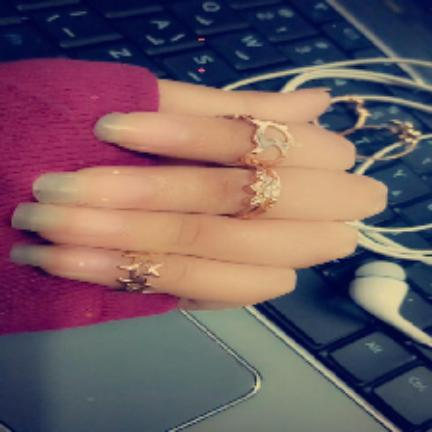Nail: (33, 174, 155, 204), (12, 203, 128, 234), (10, 246, 113, 272), (94, 113, 186, 142)
